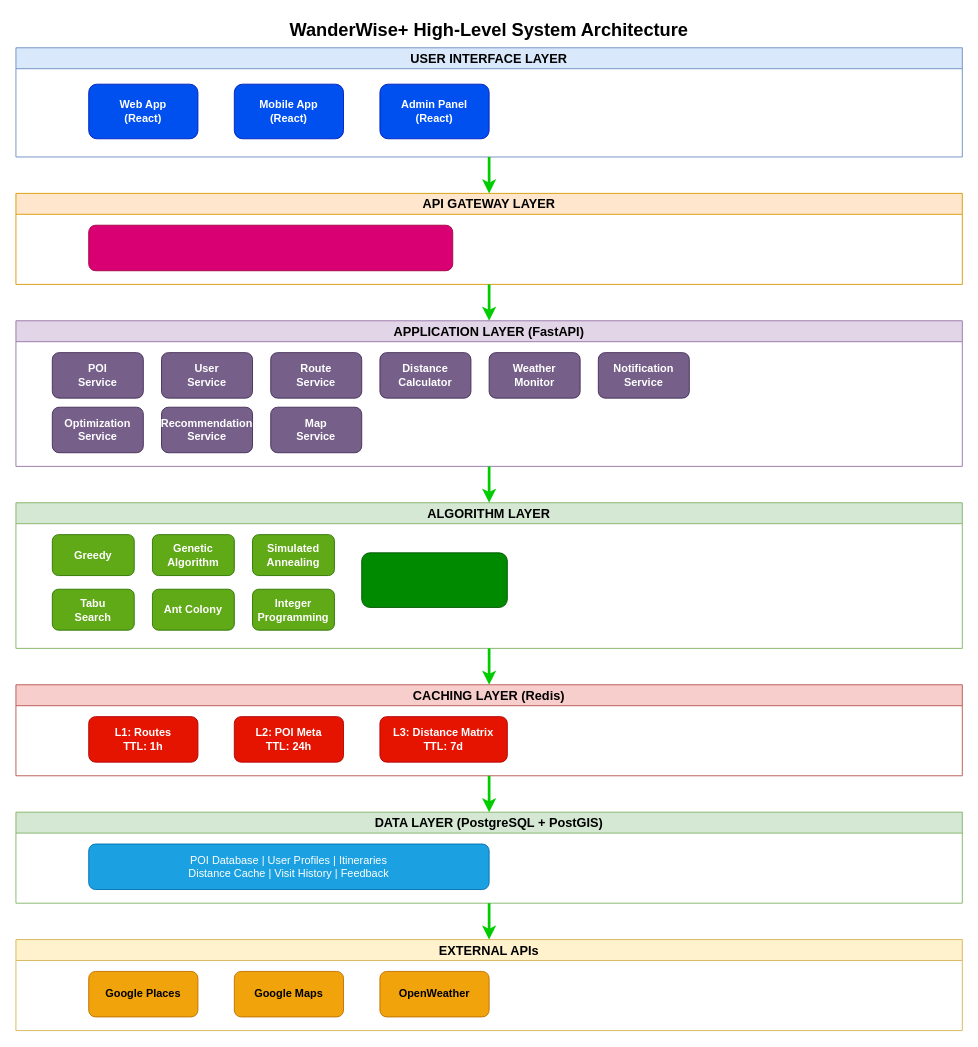
The diagram is 978 pixels wide and 1047 high, and some of its shapes have lost their labels. The shapes that lost their labels are listed below. From the top down, each one's centre as x and y in pixels, then its label:
(270,247): Nginx Reverse Proxy + Load Balancer • Request routing • Rate limiting • SSL
(434,579): Algorithm Selector (Adaptive)
